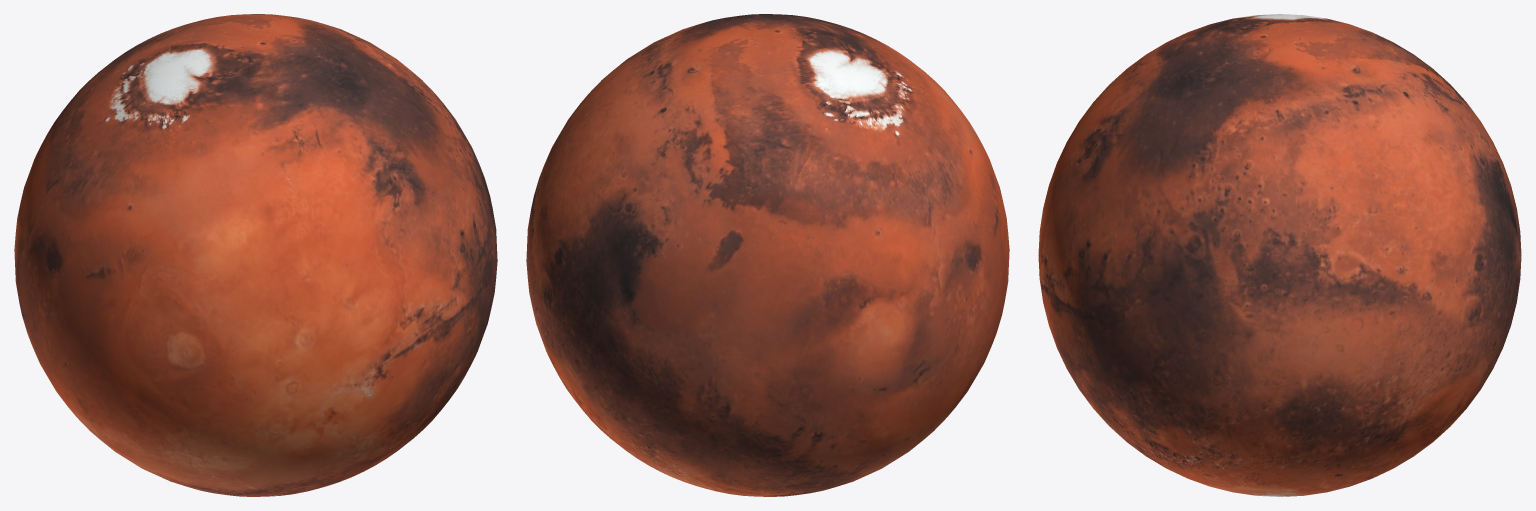
Rendered from mars.glb.
3 renders of one model, left to right at view 1: azimuth 30°, elevation 25°; view 2: azimuth 150°, elevation 25°; view 3: azimuth 270°, elevation 25°, orthographic.
Visible parts, largest first — view 1: mars; view 2: mars; view 3: mars.
Part boxes in pixels (x1,y1,x2,y2): mars: (14, 14, 497, 496); mars: (526, 14, 1009, 496); mars: (1038, 14, 1521, 496).
Size of the model in its own units: 0.2997 by 0.2997 by 0.3.
1 material, 1 textured.
